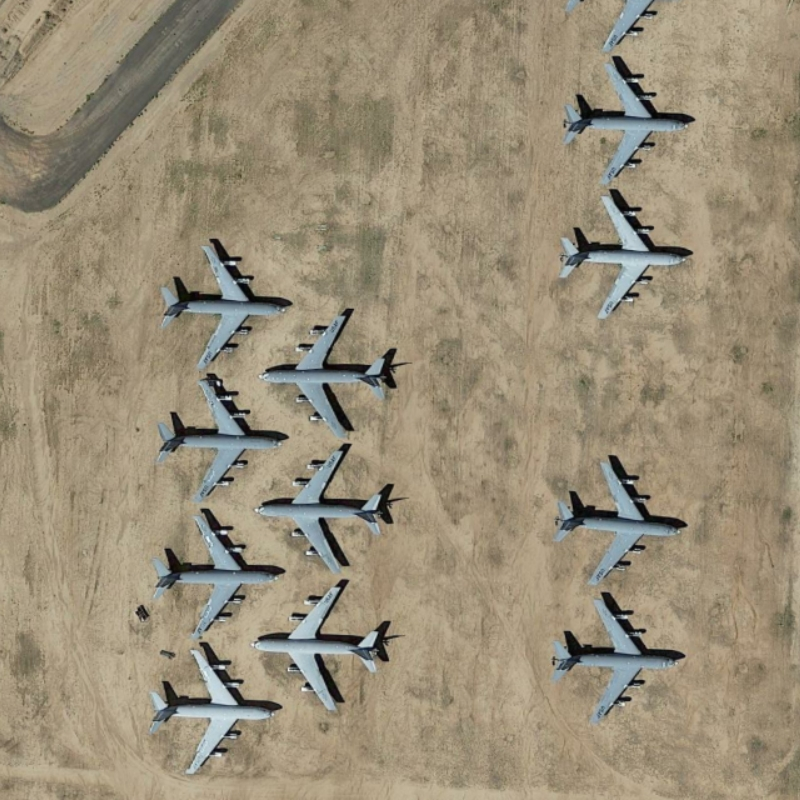A14: (248, 578, 395, 720), (549, 448, 692, 589), (548, 189, 692, 328), (551, 588, 690, 730), (154, 233, 292, 373), (559, 53, 698, 191), (251, 444, 391, 581), (259, 309, 406, 439), (142, 644, 279, 781), (148, 373, 287, 503), (150, 505, 281, 639)
